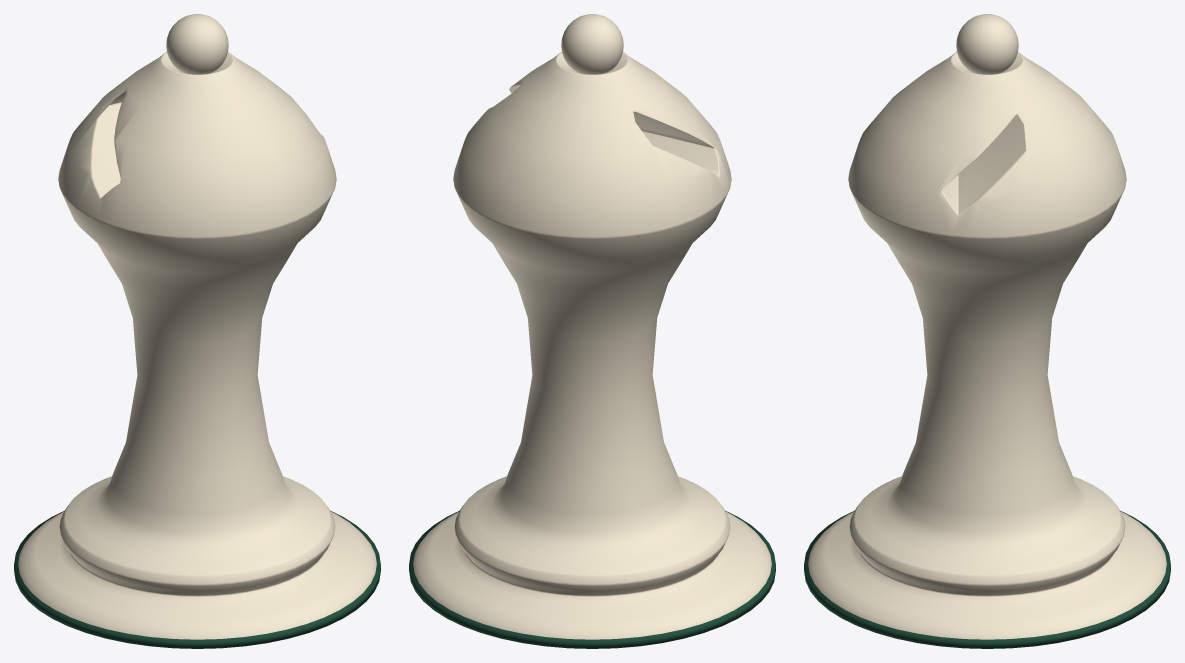
File: chess-bishop-white.glb
The picture shows the model from 3 angles, left to right: view 1: azimuth 30°, elevation 25°; view 2: azimuth 150°, elevation 25°; view 3: azimuth 270°, elevation 25°; orthographic projection.
Visible parts, largest first — view 1: ChessBishop; view 2: ChessBishop; view 3: ChessBishop.
Part boxes in pixels (x1,y1,x2,y2): ChessBishop: [14, 14, 380, 648]; ChessBishop: [409, 14, 775, 648]; ChessBishop: [804, 14, 1170, 648].
Bounding box in the file's own units: 0.5998 × 1 × 0.5998.
